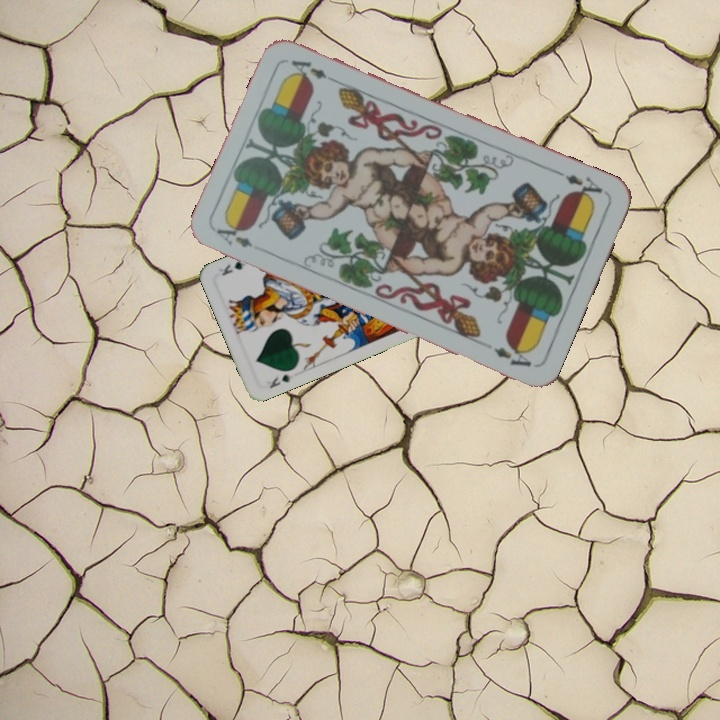EA: (552, 166, 605, 204), (212, 218, 255, 251)
GK: (265, 370, 296, 391)
